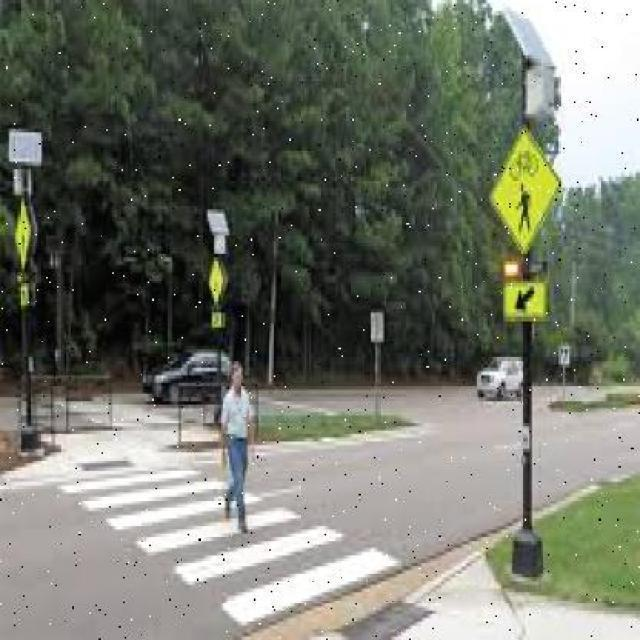crosswalk: (51, 469, 405, 631)
